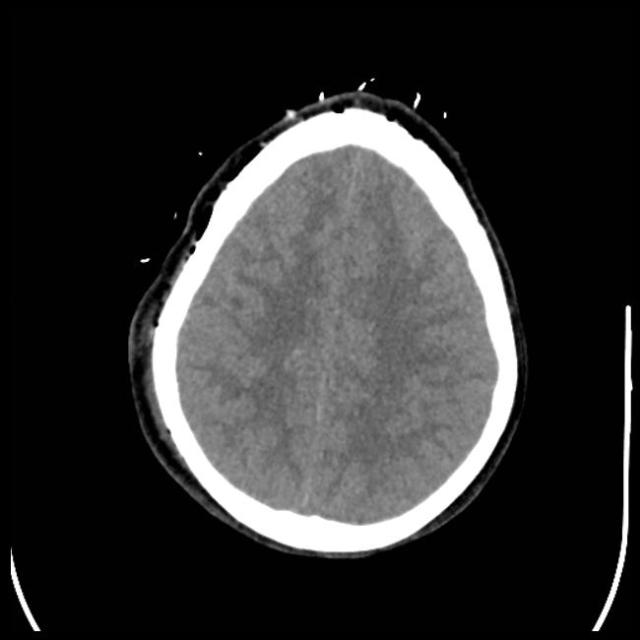lesion: (125, 87, 532, 560)
